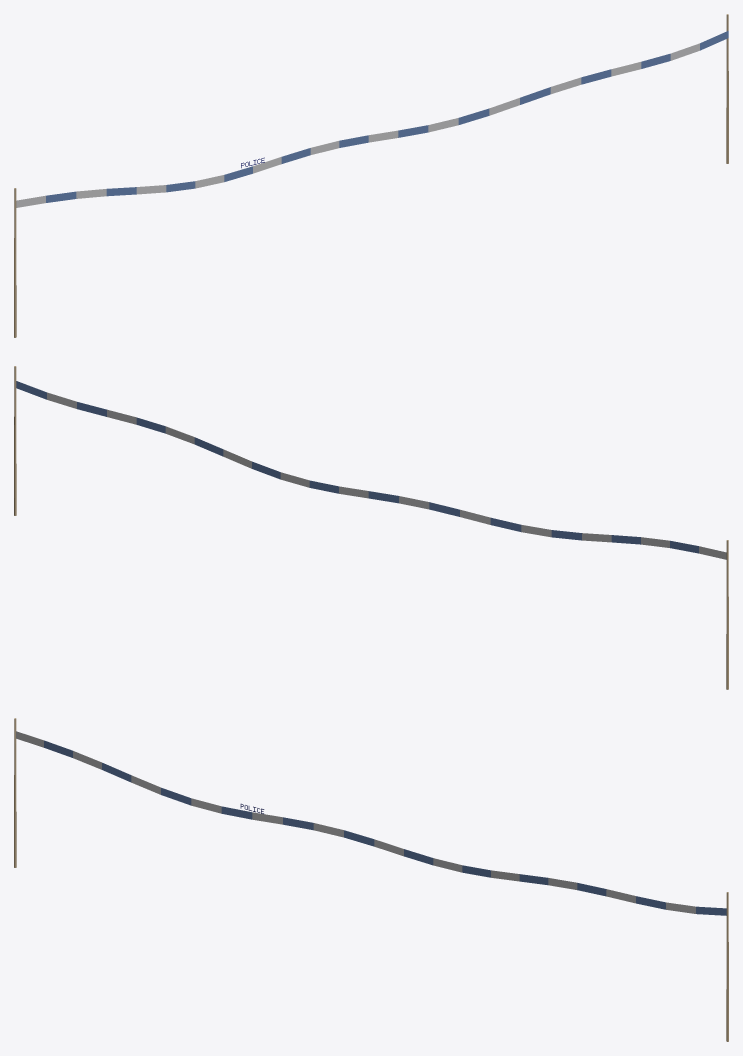
Rendered from search_tape_a.glb.
3 views of the same model, one above another, from view 1: azimuth 30°, elevation 25°; view 2: azimuth 150°, elevation 25°; view 3: azimuth 330°, elevation 25° (orthographic).
Parts seen in each view (by area): view 1: body; view 2: body; view 3: body.
Part boxes in pixels (x1=…): body: x1=14, y1=14, x2=728, y2=337; body: x1=14, y1=366, x2=728, y2=689; body: x1=14, y1=718, x2=728, y2=1041.
Size of the model in its own units: 6.02 by 1.2 by 0.0795.
